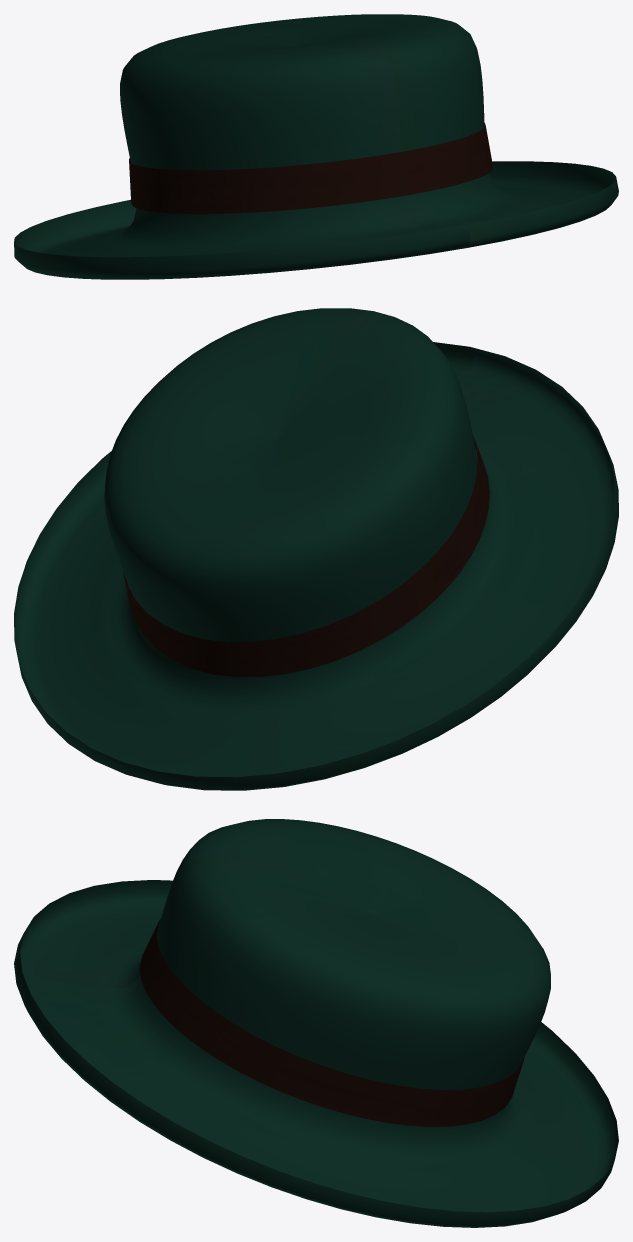
File: hat.plainsman.glb
The picture shows the model from 3 angles, top to bottom: view 1: azimuth 30°, elevation 25°; view 2: azimuth 150°, elevation 25°; view 3: azimuth 270°, elevation 25°; orthographic projection. The views are drawn at different scales.
Parts seen in each view (by area): view 1: Head; view 2: Head; view 3: Head.
Part boxes in pixels (box(x1,y1,x2,y2)): Head: box(14, 14, 618, 279); Head: box(14, 308, 618, 790); Head: box(14, 819, 618, 1227).
Bounding box in the file's own units: 0.347 × 0.2033 × 0.3612.
1 material, 1 textured.
